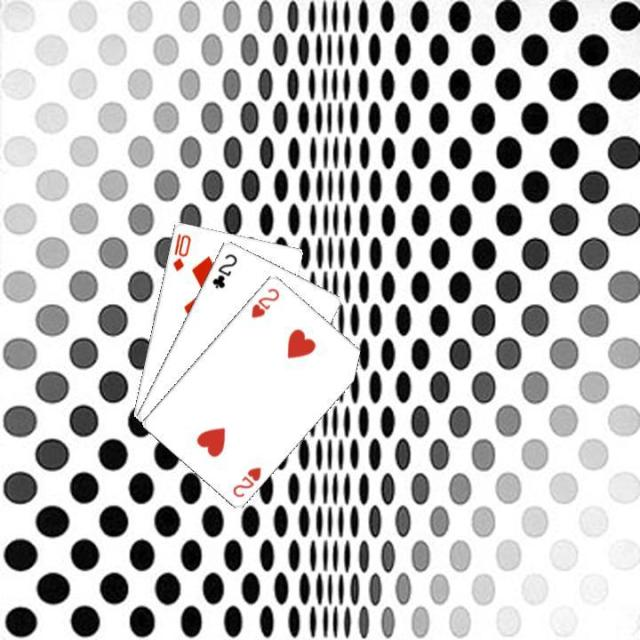10D: (169, 229, 192, 273)
2C: (208, 249, 239, 290)
2H: (229, 462, 263, 499), (247, 284, 282, 319)
